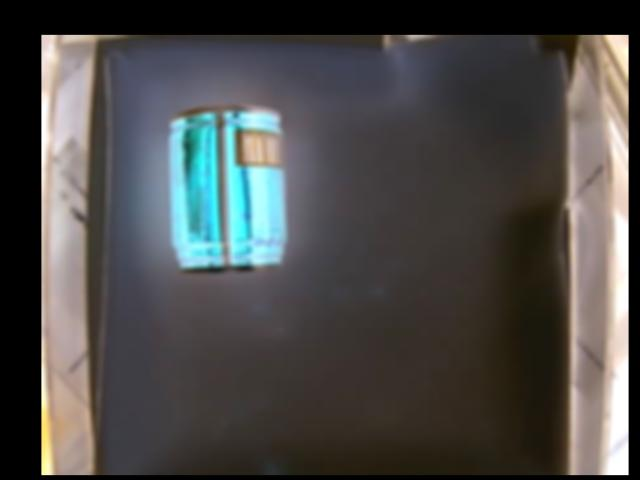Bottle: (168, 106, 284, 272)
